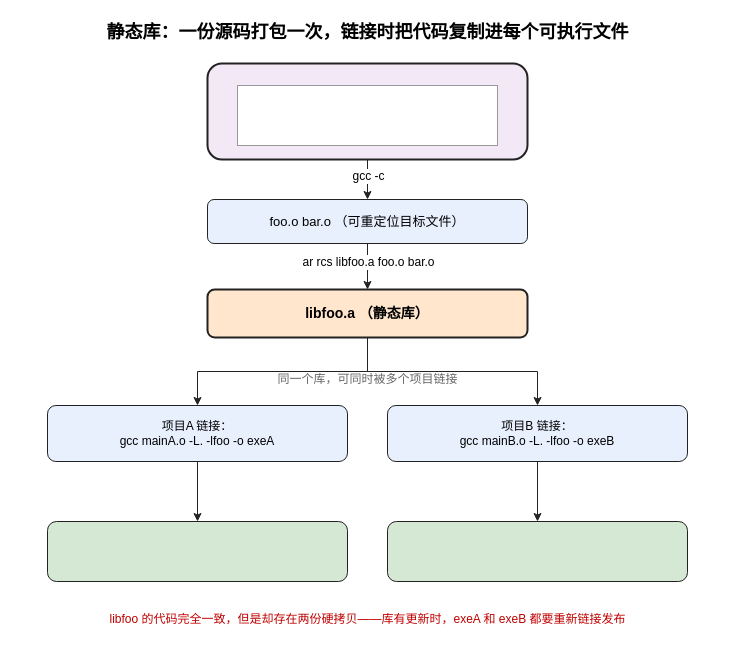
Some shapes in this 734 by 650 pixel diagram are drawn without their labels. Here are the shapes that lost their labels. From the top down, the centre of each, then its label:
the point at 367,115: foo.c bar.c ...
the point at 197,551: exeA （内嵌 libfoo 代码的一份副本）
the point at 537,551: exeB （内嵌 libfoo 代码的另一份副本）
